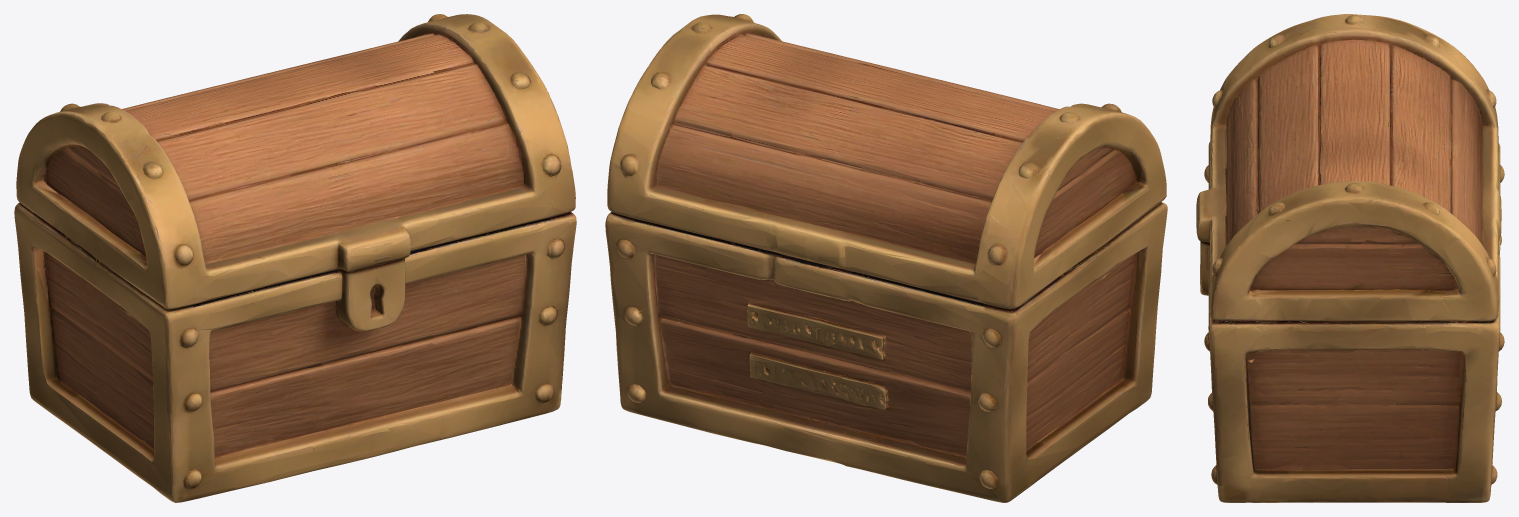
The model's file is chest.glb.
The picture shows the model from 3 angles, left to right: view 1: azimuth 30°, elevation 25°; view 2: azimuth 150°, elevation 25°; view 3: azimuth 270°, elevation 25°; orthographic projection. The views are drawn at different scales.
Bounding box in the file's own units: 1.9 × 1.49 × 1.31.
1 material, 1 textured.
